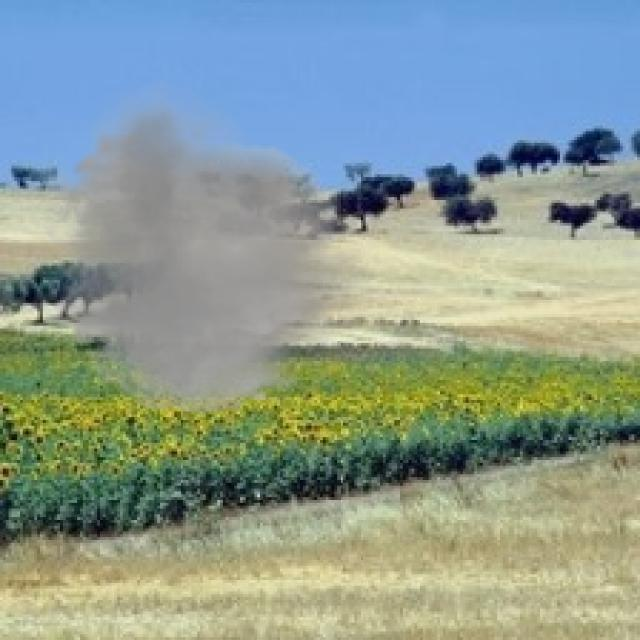Smoke: (26, 77, 386, 423)
